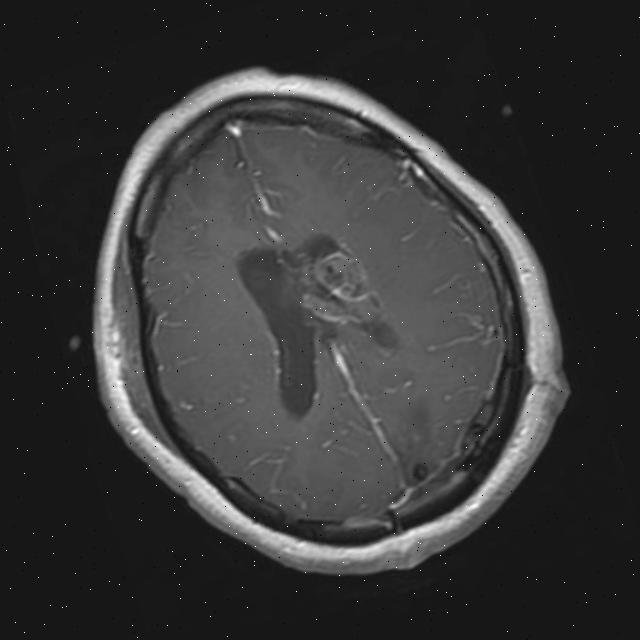Glioma: (289, 241, 387, 341)
